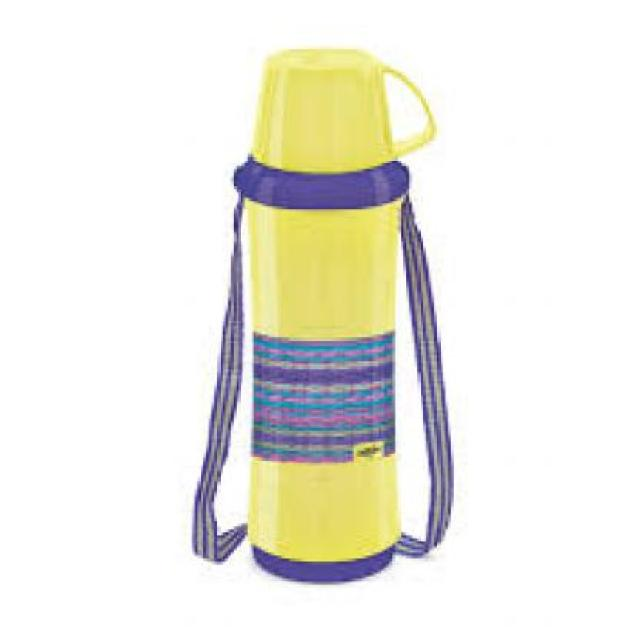Drinking: (240, 32, 426, 599)
